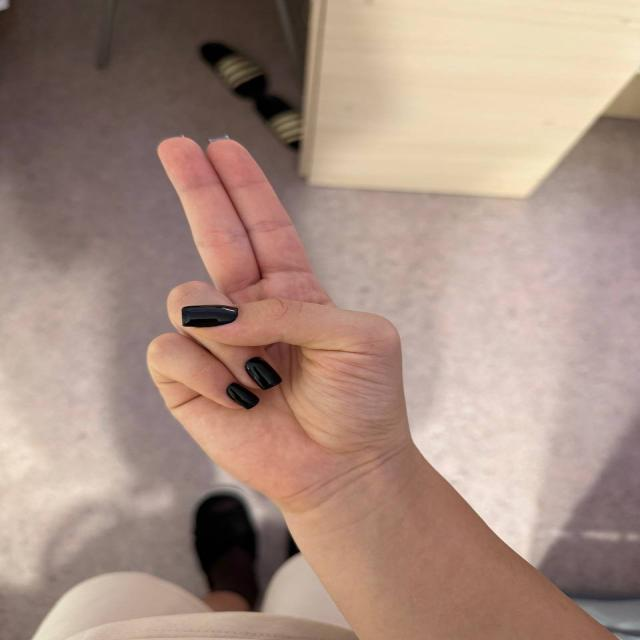ts: (107, 140, 416, 473)
